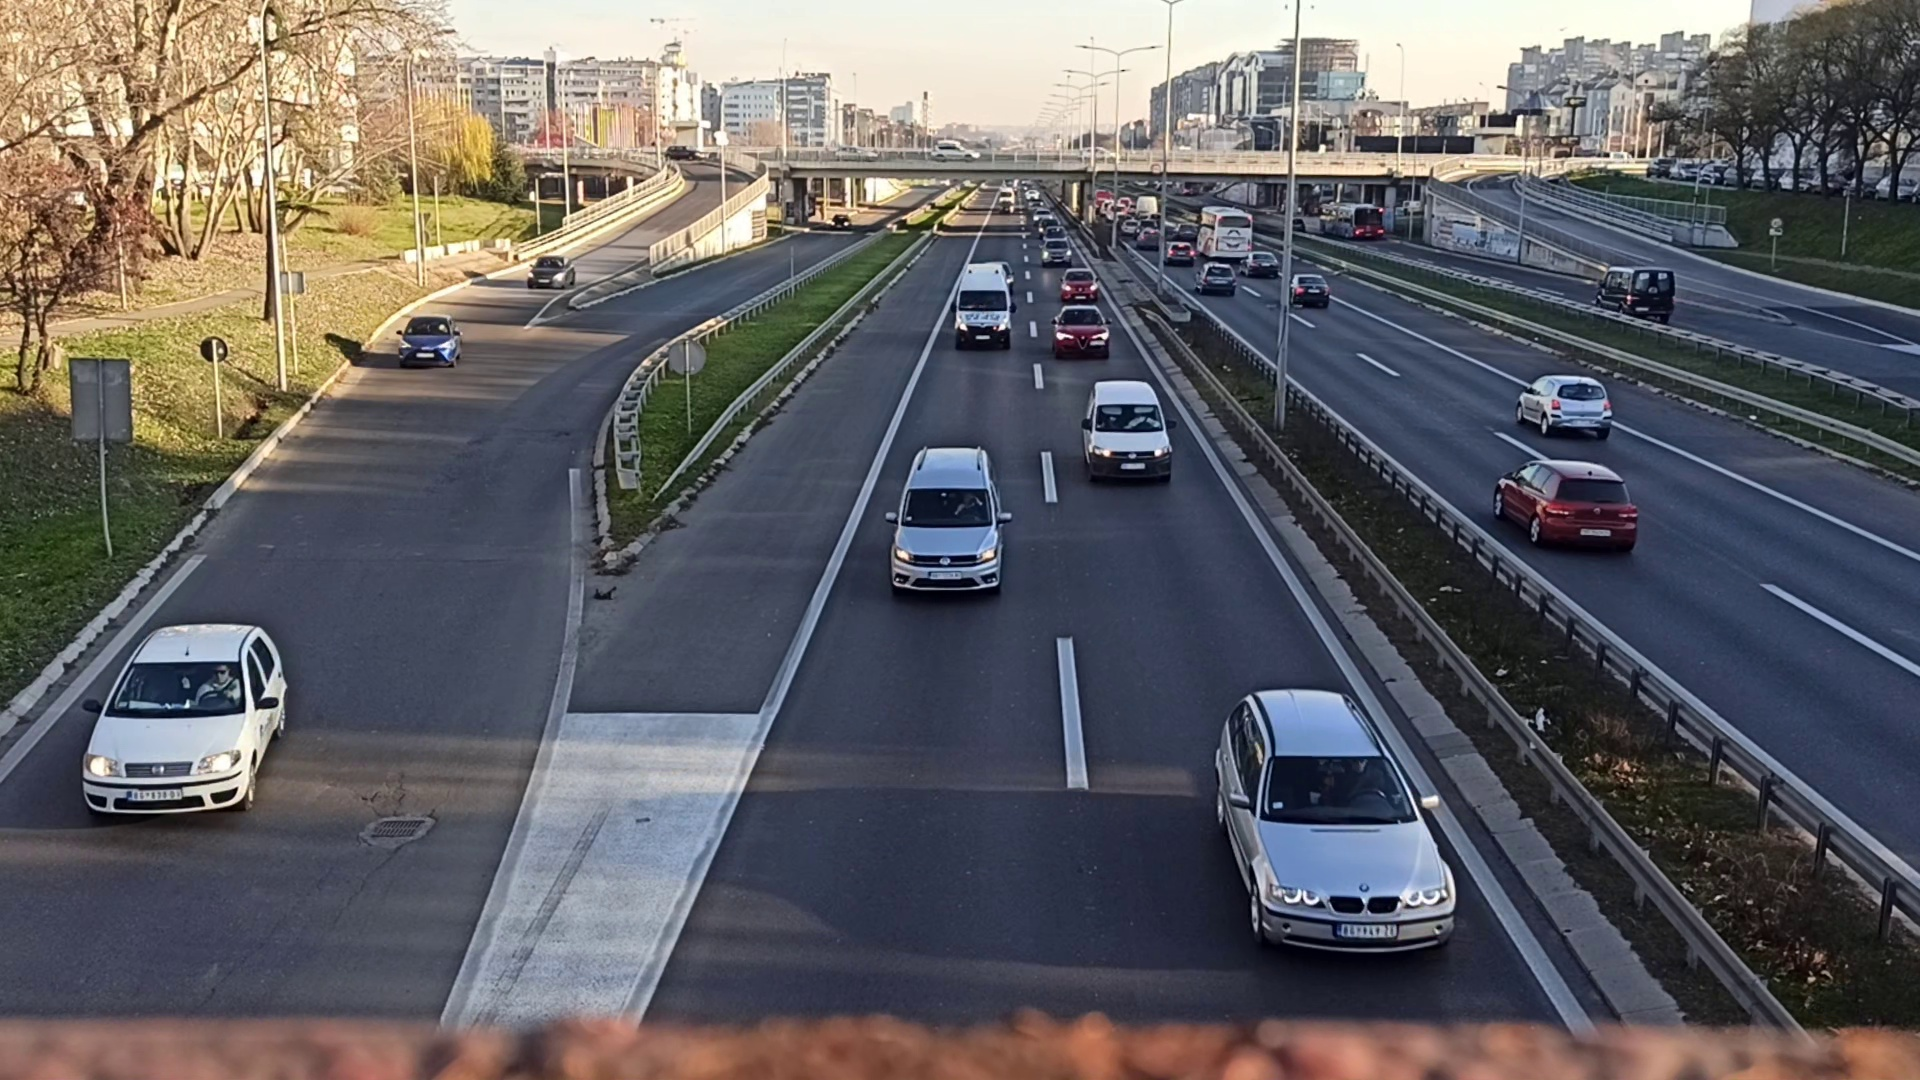bus: (1197, 204, 1254, 258), (1323, 202, 1387, 241)
car: (1208, 687, 1460, 948), (80, 611, 294, 829), (895, 440, 1005, 604), (1487, 459, 1638, 560), (1075, 377, 1174, 489), (1513, 369, 1615, 439), (400, 313, 463, 363), (1054, 307, 1110, 353), (529, 251, 576, 294), (1064, 270, 1096, 298)
van: (1588, 262, 1684, 324), (953, 262, 1011, 345)
